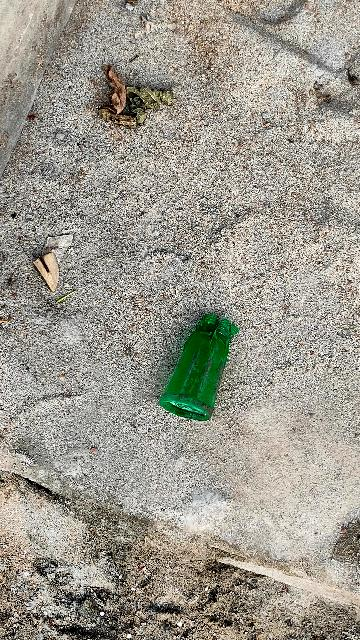hardplastic: (159, 312, 245, 432)
